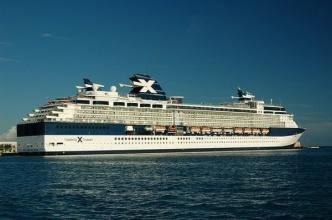youlun: (19, 73, 309, 155)
